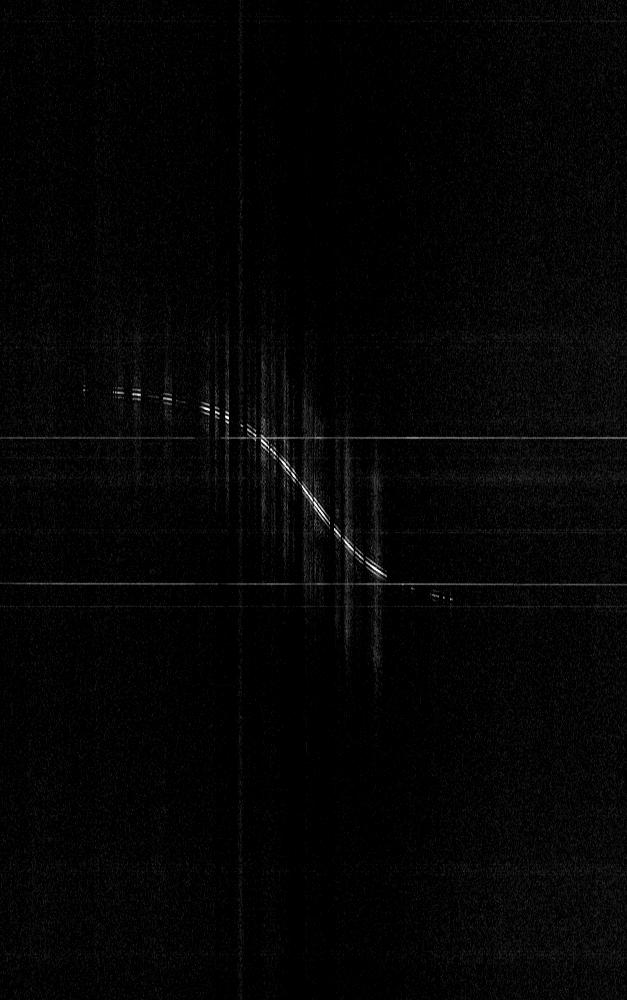signal: (0, 0, 626, 999)
